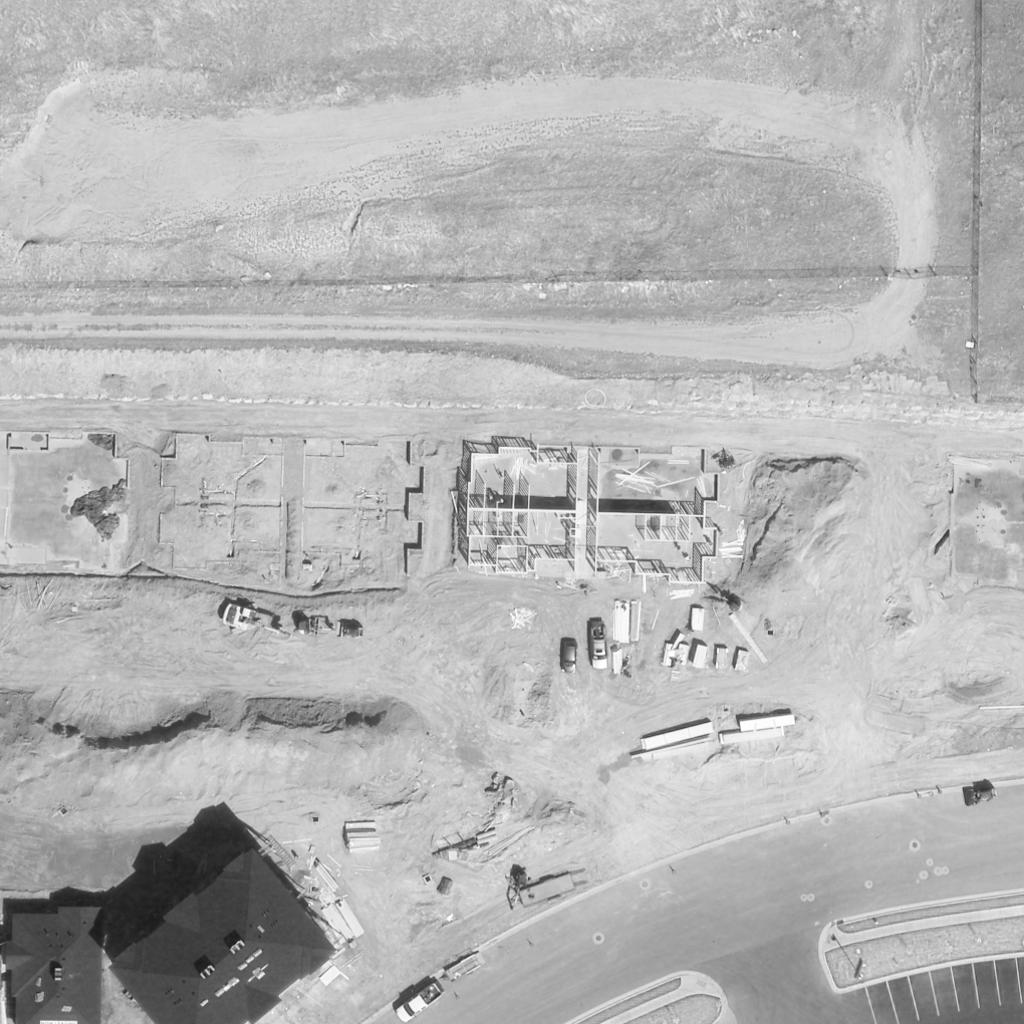vehicle: (221, 602, 295, 650), (395, 982, 445, 1022), (591, 619, 607, 671), (965, 786, 999, 808), (560, 642, 578, 674)
